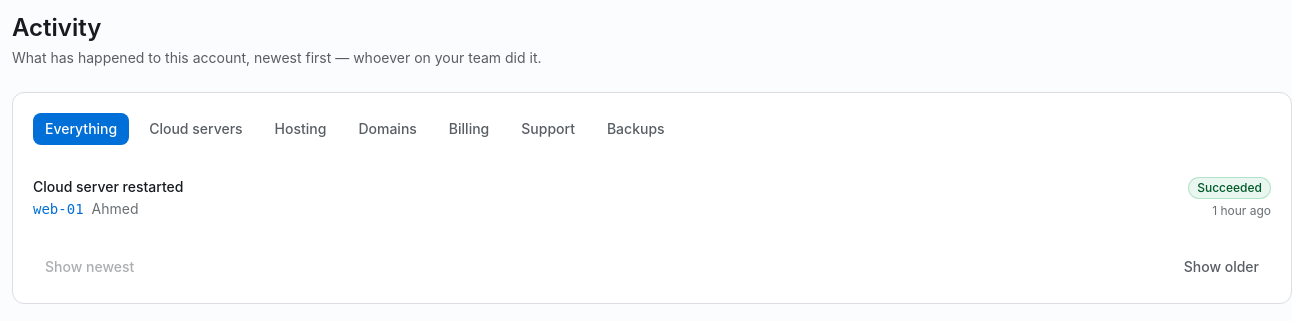
what happened to this account › walks the feed by cursor and never by page number
The image size is (1292, 321).
expect the text "Cloud server restarted" is shown: met, box [33,178,184,195]
Click the button "Show older". click: (1221, 267)
box: [1172,251,1271,283]
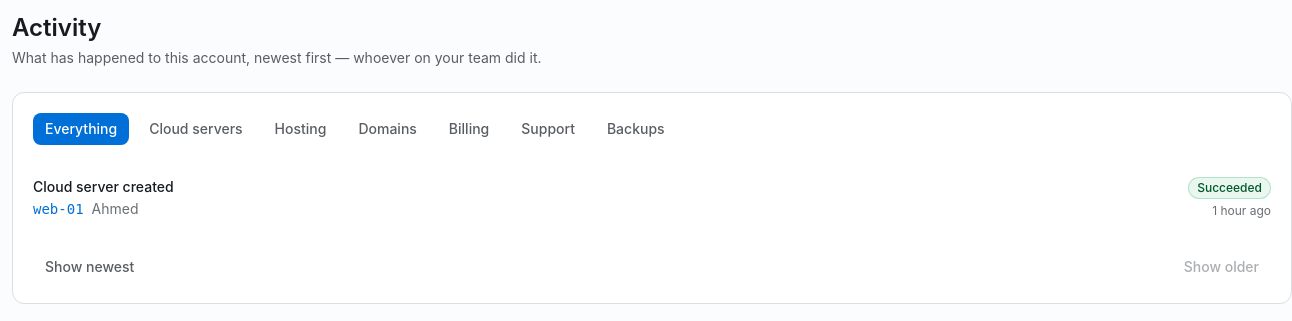
expect the text "Cloud server created" is shown: met, box [33,178,174,195]
